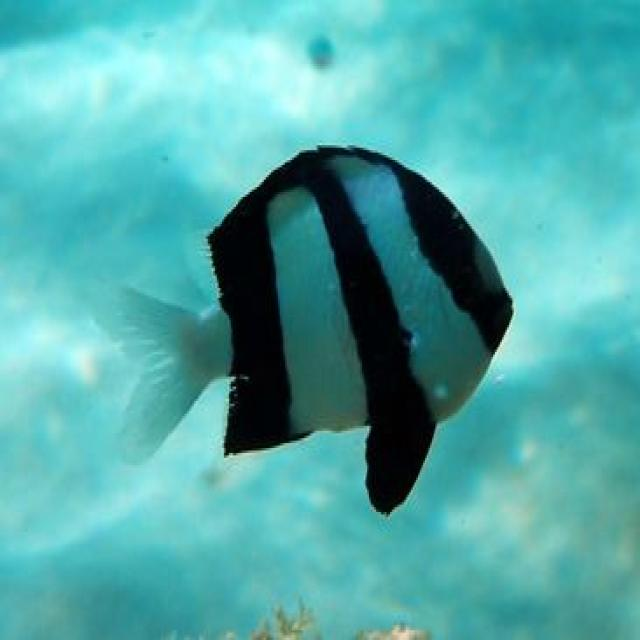ThreeStripedDamselfish: (114, 145, 516, 519)
